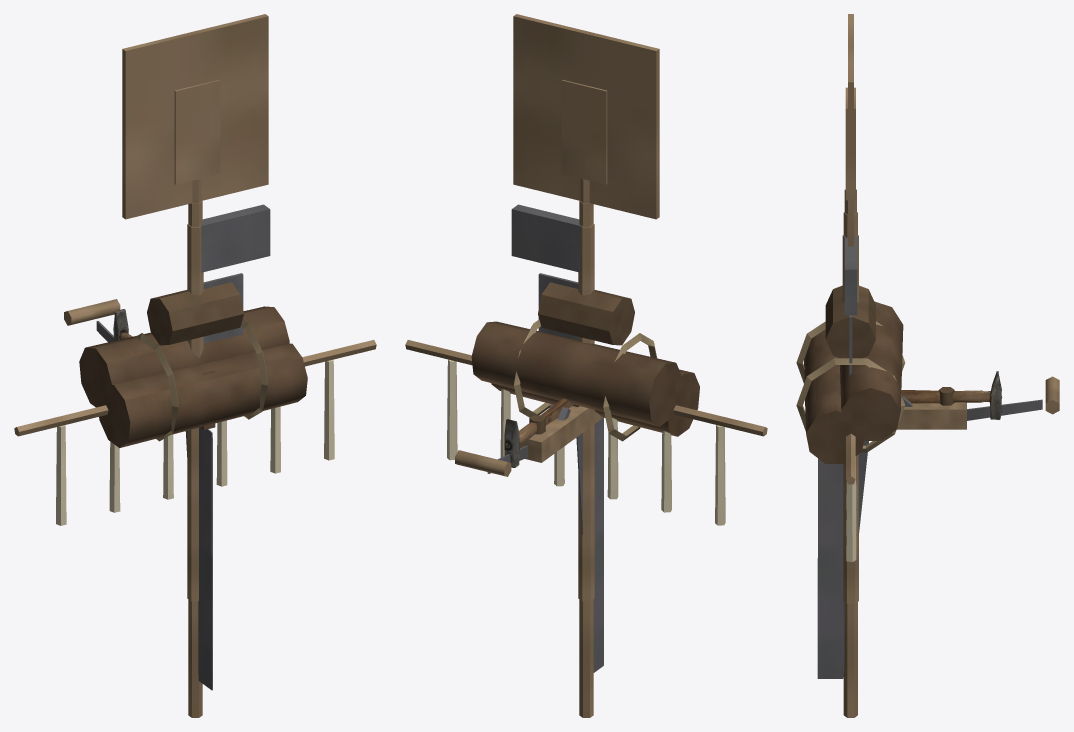
File: crowd-props-craft-v1.glb
3 renders of one model, left to right at view 1: azimuth 30°, elevation 25°; view 2: azimuth 150°, elevation 25°; view 3: azimuth 270°, elevation 25°, orthographic. The views are drawn at different scales.
Visible parts, largest first — view 1: prop_oven_peel, prop_hide_bundle, prop_axe, prop_candle_rod, prop_ladle, prop_mallet, prop_saw, prop_hide_scraper, prop_cleaver; view 2: prop_oven_peel, prop_hide_bundle, prop_axe, prop_candle_rod, prop_ladle, prop_mallet, prop_saw, prop_plane, prop_hammer_small, prop_hide_scraper, prop_cleaver; view 3: prop_hide_bundle, prop_saw, prop_oven_peel, prop_mallet, prop_axe, prop_plane, prop_hammer_small, prop_candle_rod, prop_hide_scraper, prop_ladle.
Boxes of the visible parts, x1,y1,x2,y2 form: prop_oven_peel: [122, 14, 268, 717]; prop_hide_bundle: [79, 306, 307, 447]; prop_axe: [187, 204, 270, 601]; prop_candle_rod: [14, 340, 376, 525]; prop_ladle: [174, 79, 220, 203]; prop_mallet: [147, 282, 243, 345]; prop_saw: [185, 370, 215, 690]; prop_hide_scraper: [64, 299, 120, 342]; prop_cleaver: [203, 273, 243, 343]; prop_oven_peel: [513, 14, 659, 717]; prop_hide_bundle: [471, 319, 699, 441]; prop_axe: [511, 204, 594, 601]; prop_candle_rod: [405, 340, 767, 525]; prop_ladle: [561, 79, 607, 203]; prop_mallet: [538, 282, 634, 345]; prop_saw: [573, 404, 603, 672]; prop_plane: [519, 404, 602, 462]; prop_hammer_small: [504, 398, 573, 467]; prop_hide_scraper: [455, 405, 572, 476]; prop_cleaver: [538, 273, 578, 340]; prop_hide_bundle: [796, 301, 905, 463]; prop_saw: [817, 372, 868, 678]; prop_oven_peel: [843, 14, 857, 717]; prop_mallet: [825, 285, 875, 358]; prop_axe: [842, 235, 858, 603]; prop_plane: [897, 387, 966, 429]; prop_hammer_small: [901, 371, 1002, 419]; prop_candle_rod: [846, 433, 856, 561]; prop_hide_scraper: [967, 376, 1059, 420]; prop_ladle: [844, 87, 856, 214].
Bounding box in the file's own units: 0.8 × 1.46 × 0.5219.
Materials: 1 (1 with a texture image).
